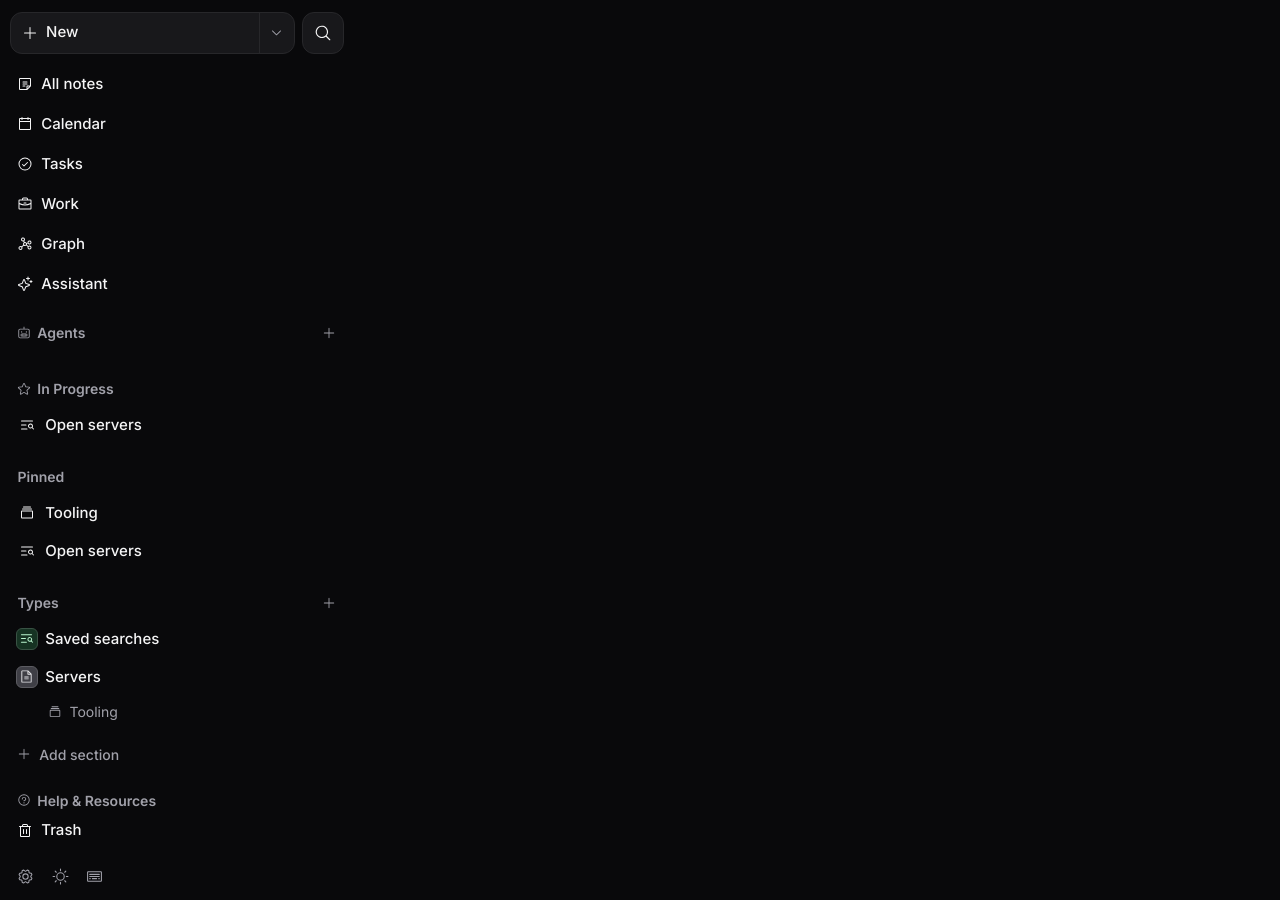
SidebarSections › test Edit section renames and Delete section keeps the items pinned elsewhere
Right-click the heading "In Progress" at (66, 389), box left=17, top=380, right=114, bottom=397
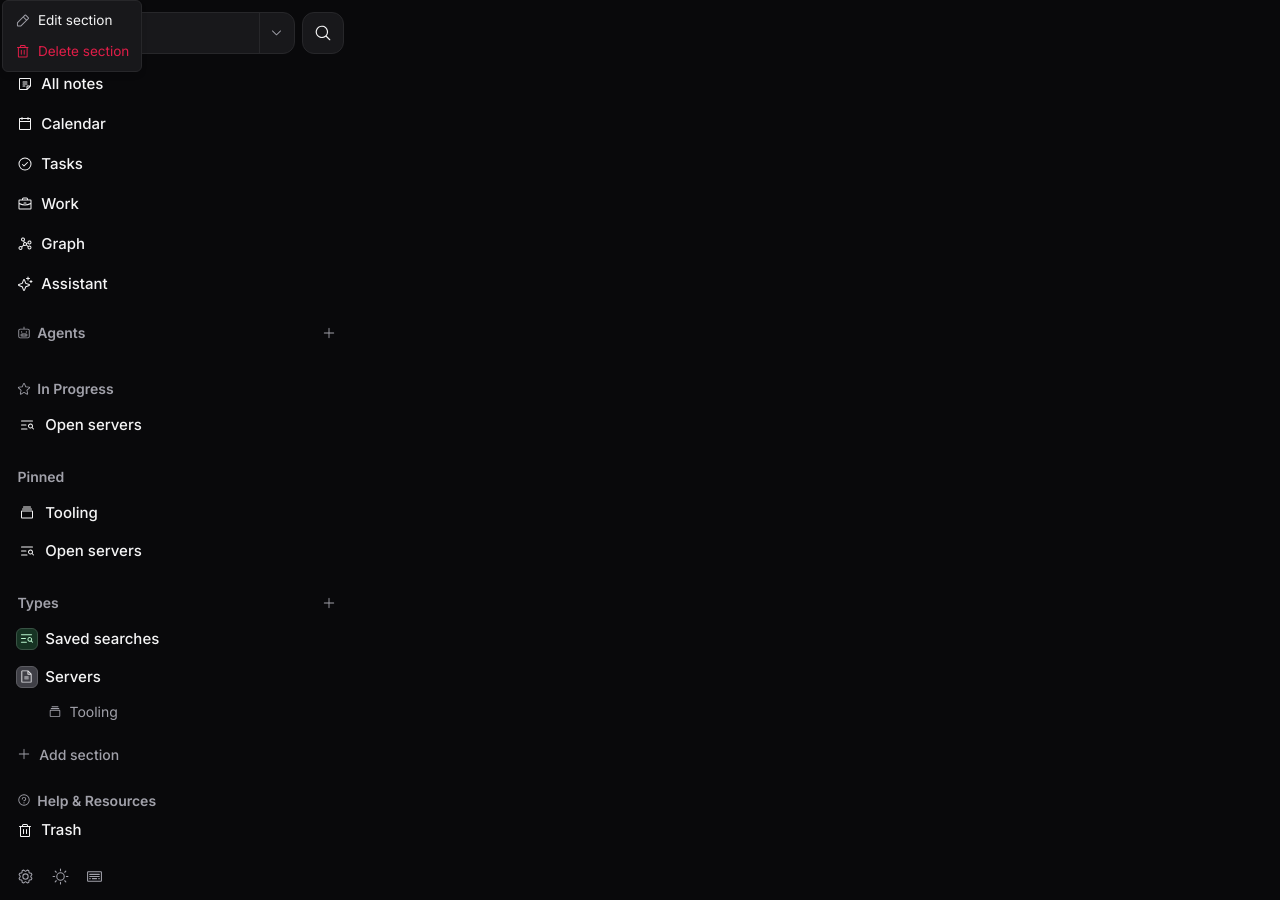
Click the menu item "Edit section" at (64, 20), box left=15, top=12, right=112, bottom=28
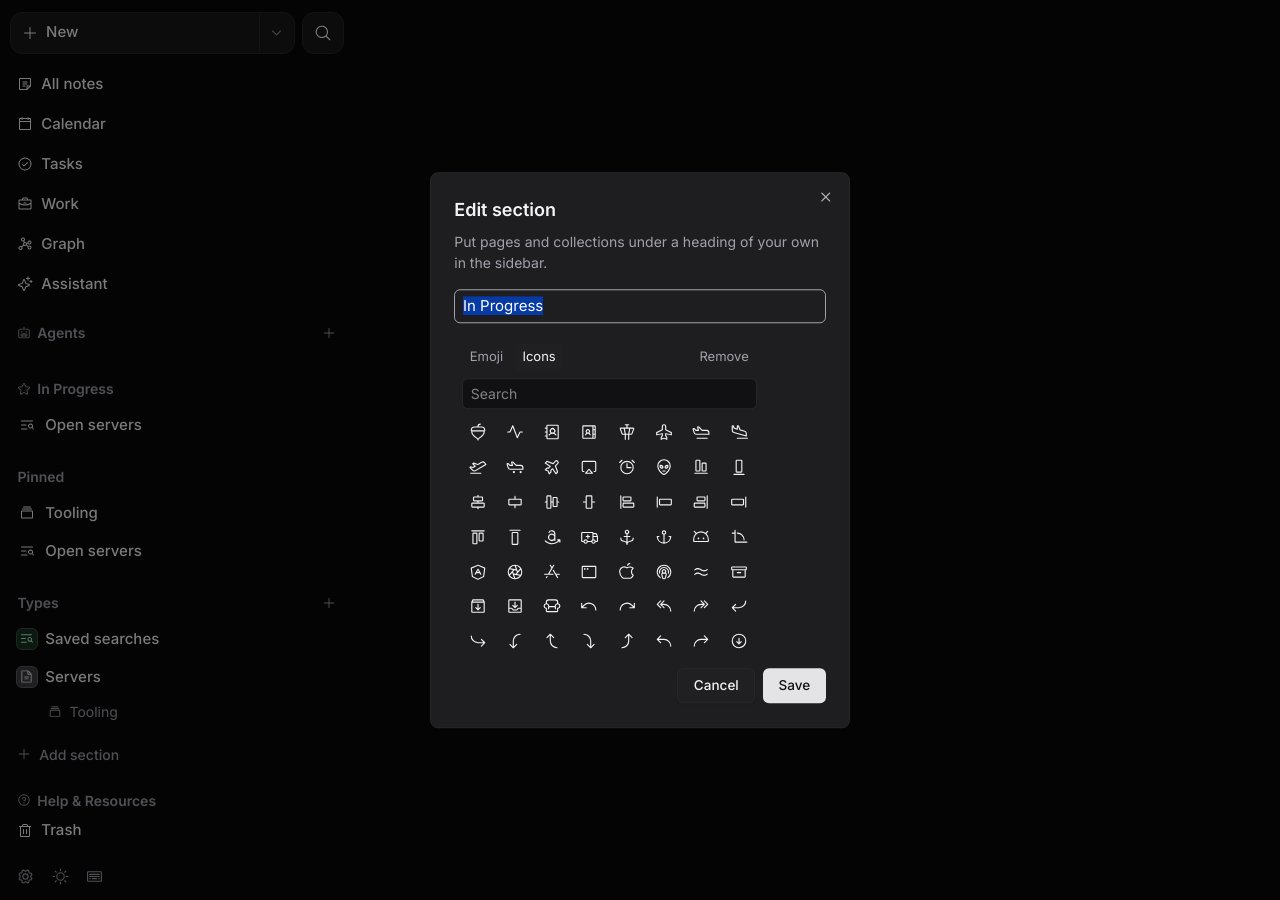
Replace the text in the field named "Section Name" with "Doing" at (640, 306), box left=454, top=289, right=826, bottom=324
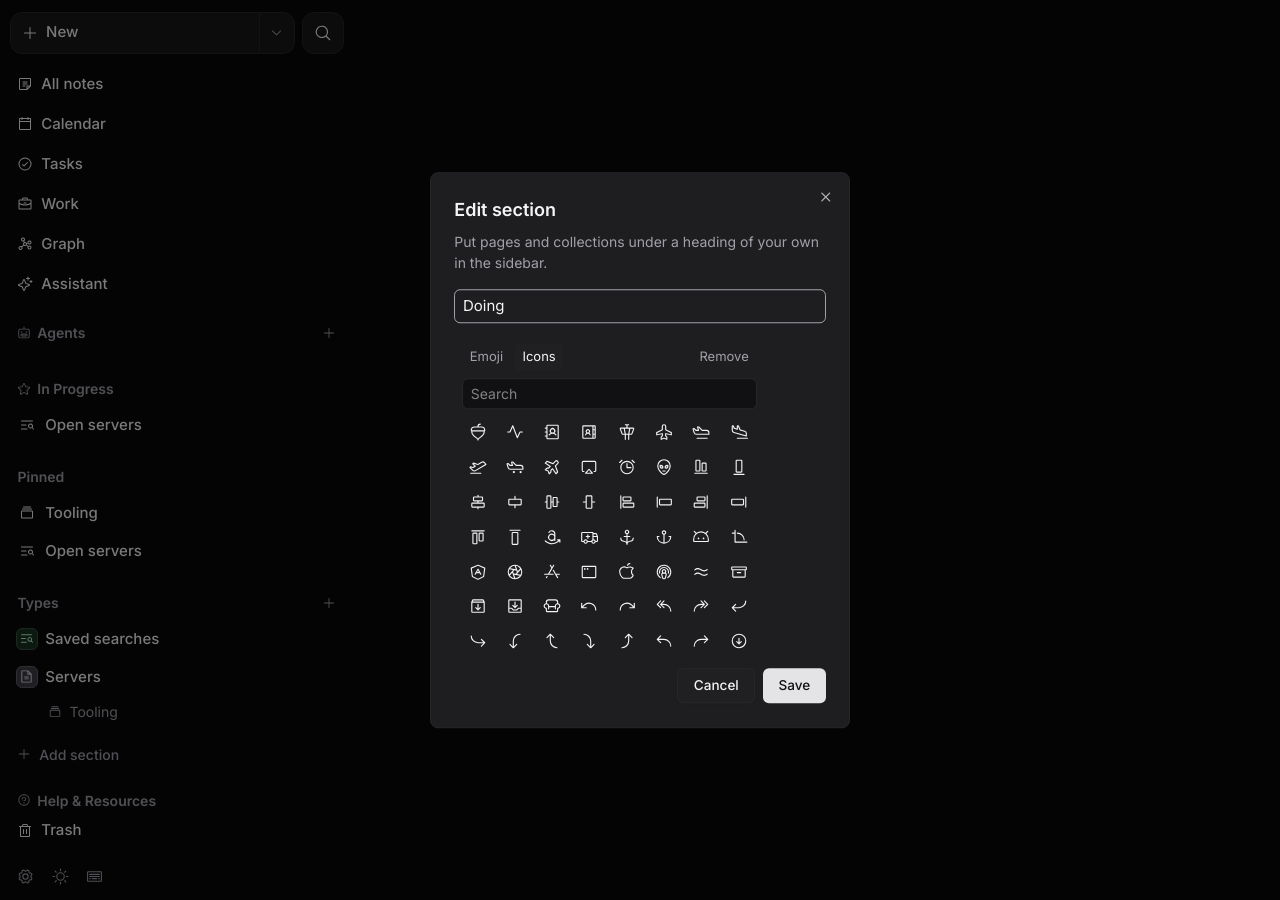
Click the button "Save" at (794, 686), box left=763, top=669, right=826, bottom=704
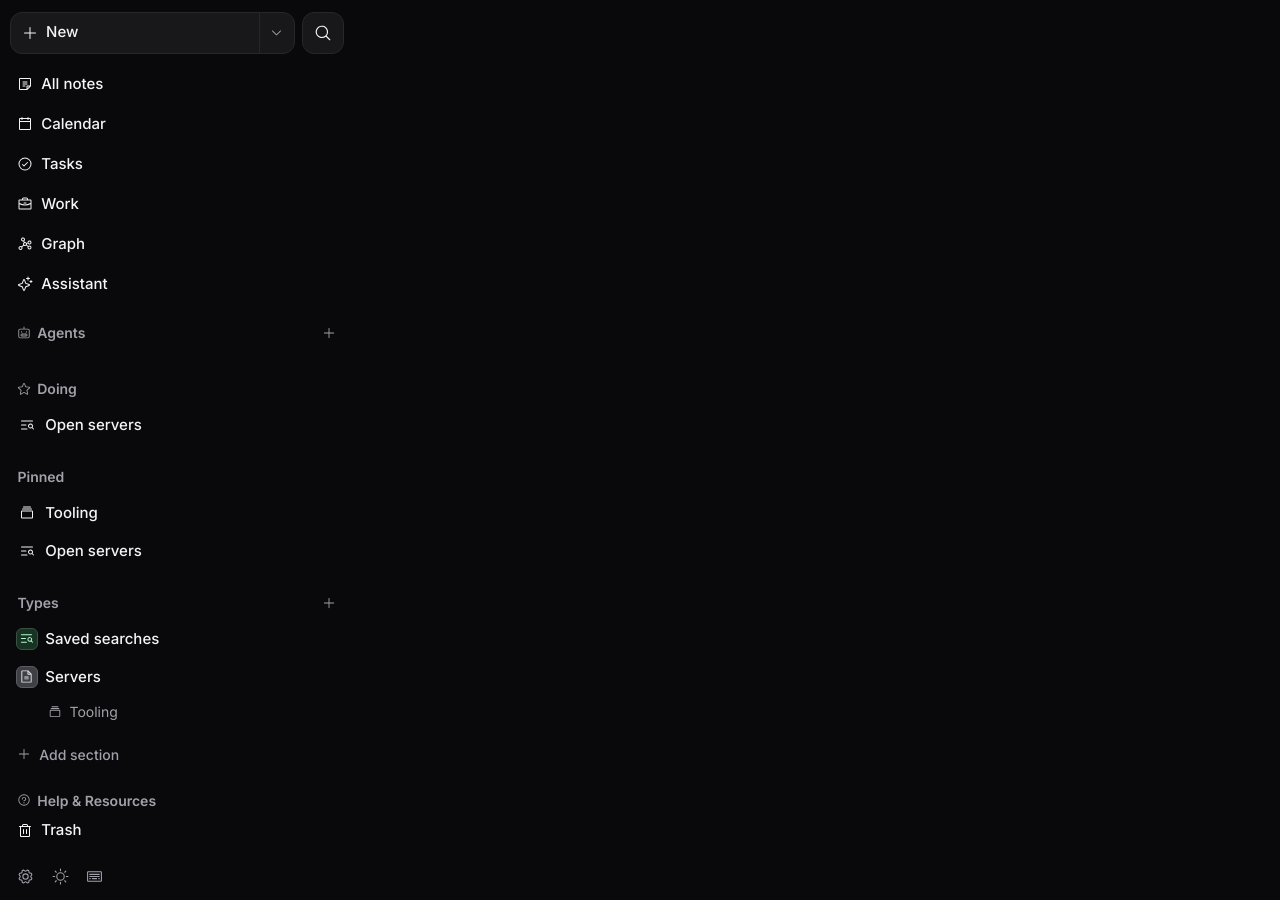
expect the heading named "In Progress" reads "Doing": met, box left=37, top=380, right=77, bottom=397
Right-click the heading "Doing" at (47, 389), box left=17, top=380, right=77, bottom=397
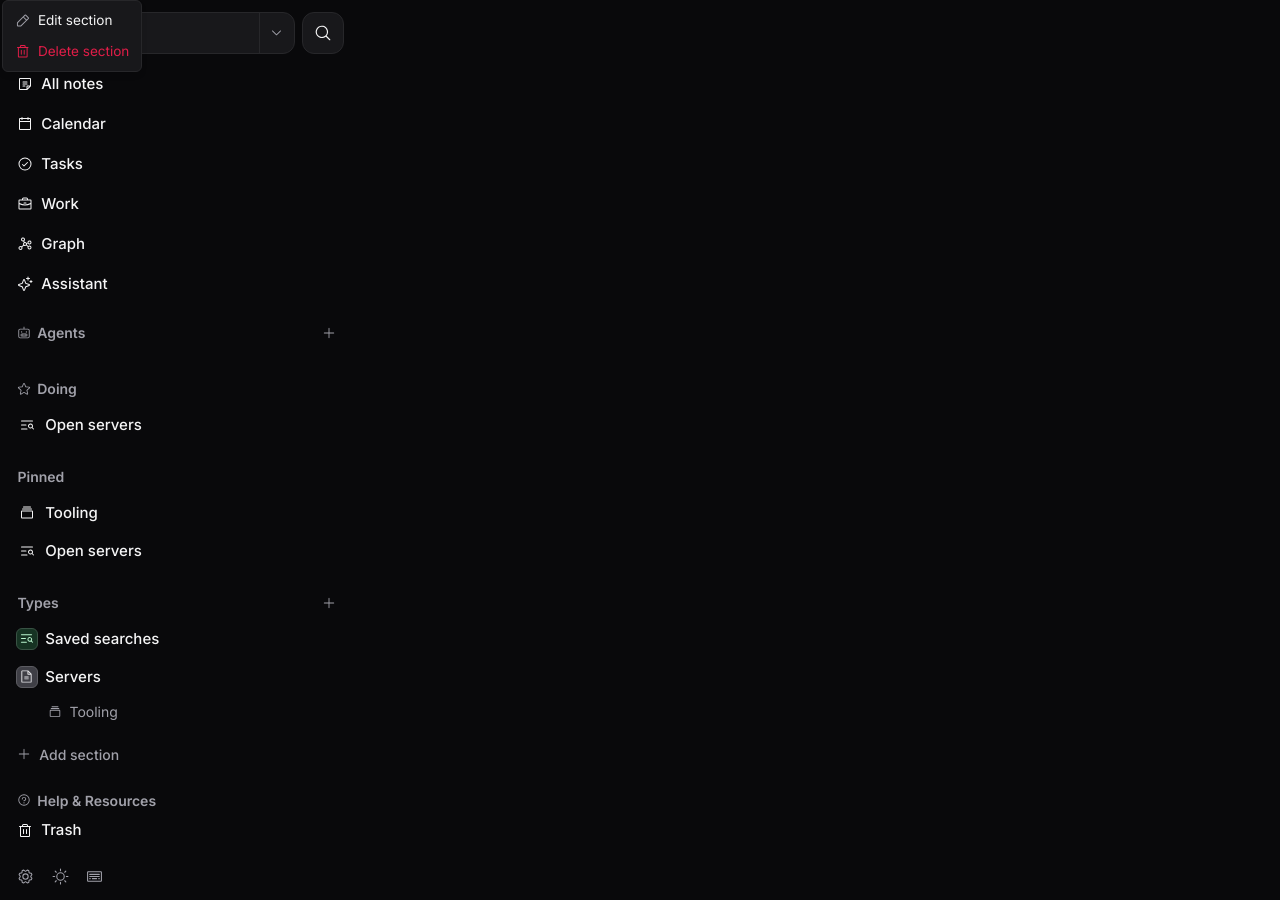
Click the menu item "Delete section" at (72, 51), box left=15, top=43, right=129, bottom=59
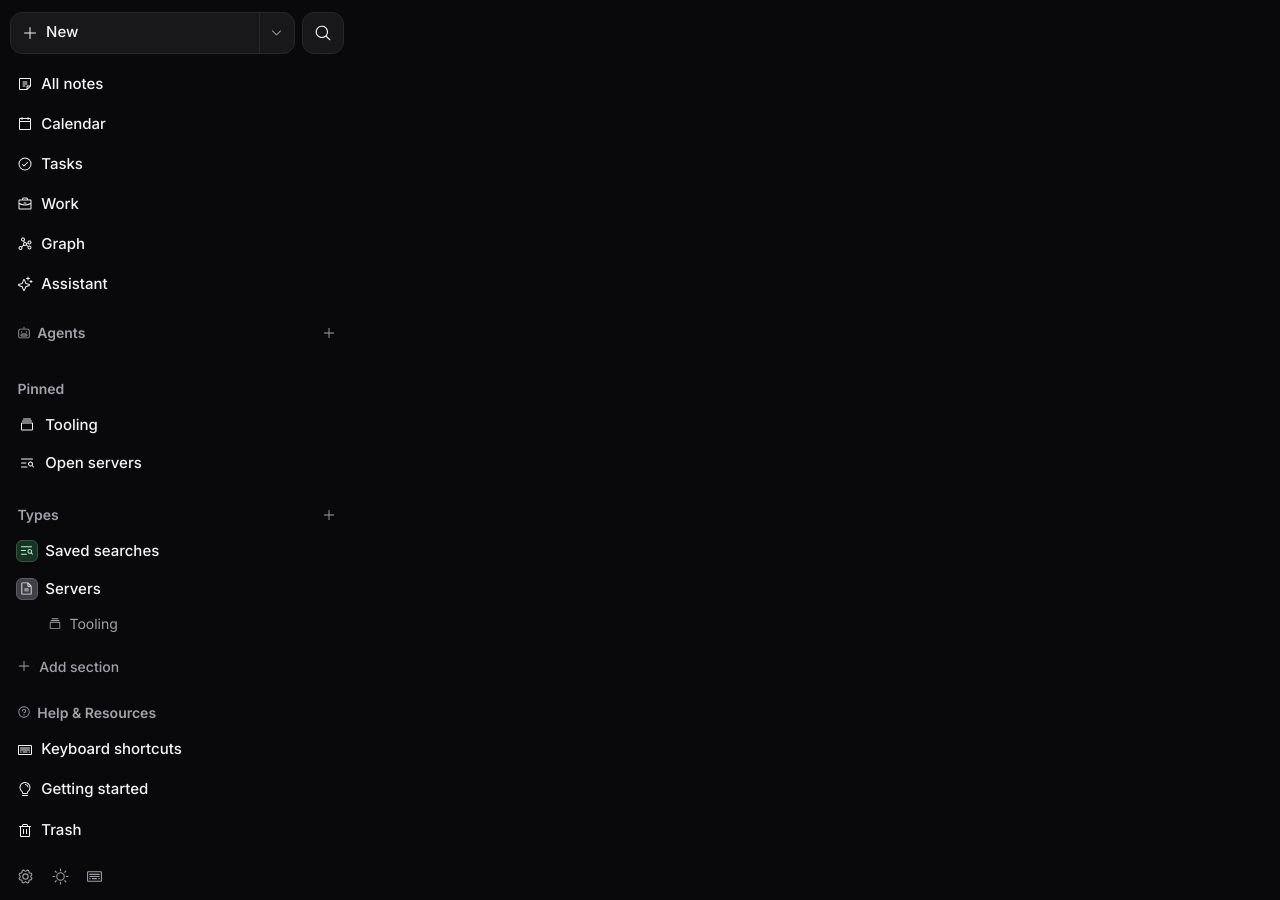
expect the text "Open servers" is shown once: met, box left=45, top=453, right=142, bottom=472
